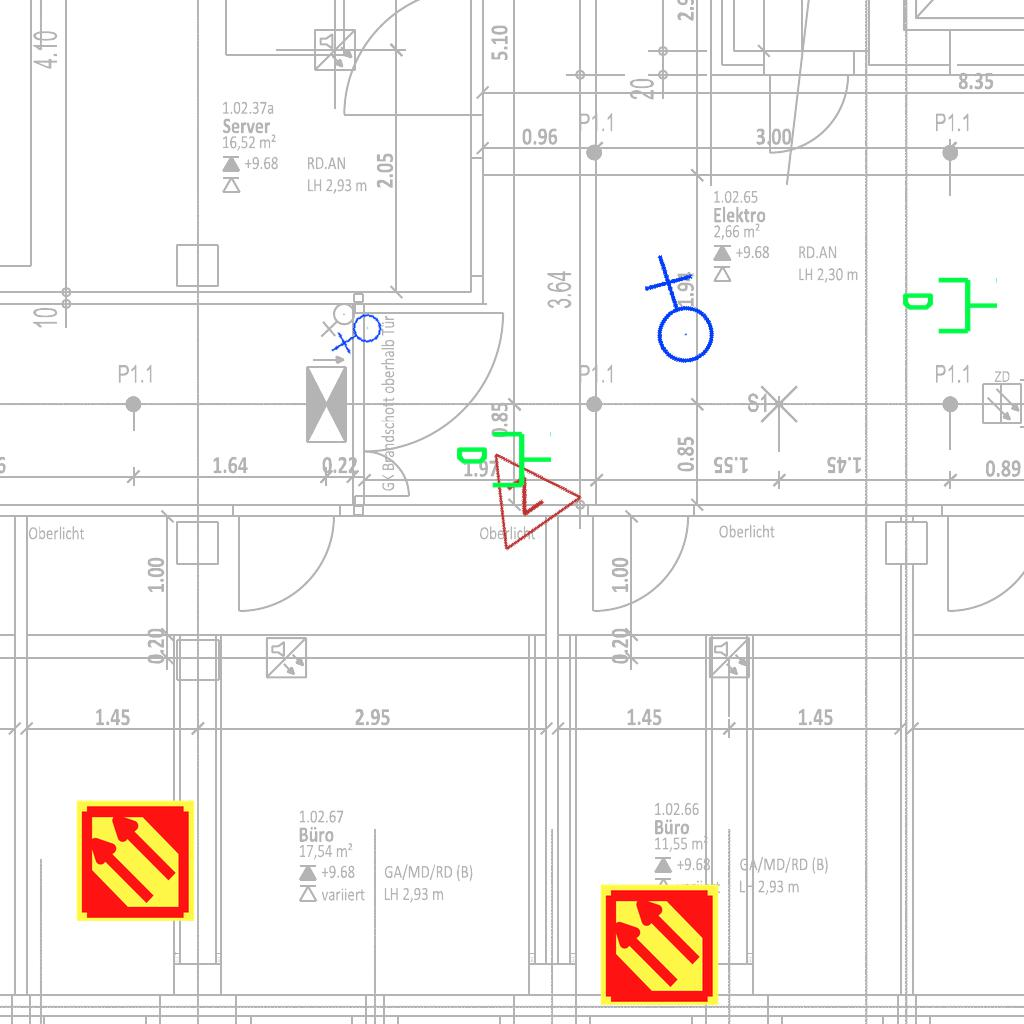ASR_Ansaugrauchmelder: (73, 798, 198, 923), (597, 882, 722, 1007)
Datenanschluss_einfach: (900, 273, 1000, 342), (454, 427, 554, 496)
Elektroanschluss_allgemein_230V_Geraeteanschlussdose_230V: (611, 250, 740, 382), (330, 307, 389, 364)
Zimmersignalleuchte: (450, 420, 588, 560)
